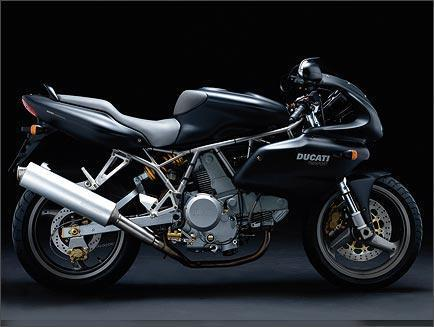motorcycle: (6, 59, 434, 301)
